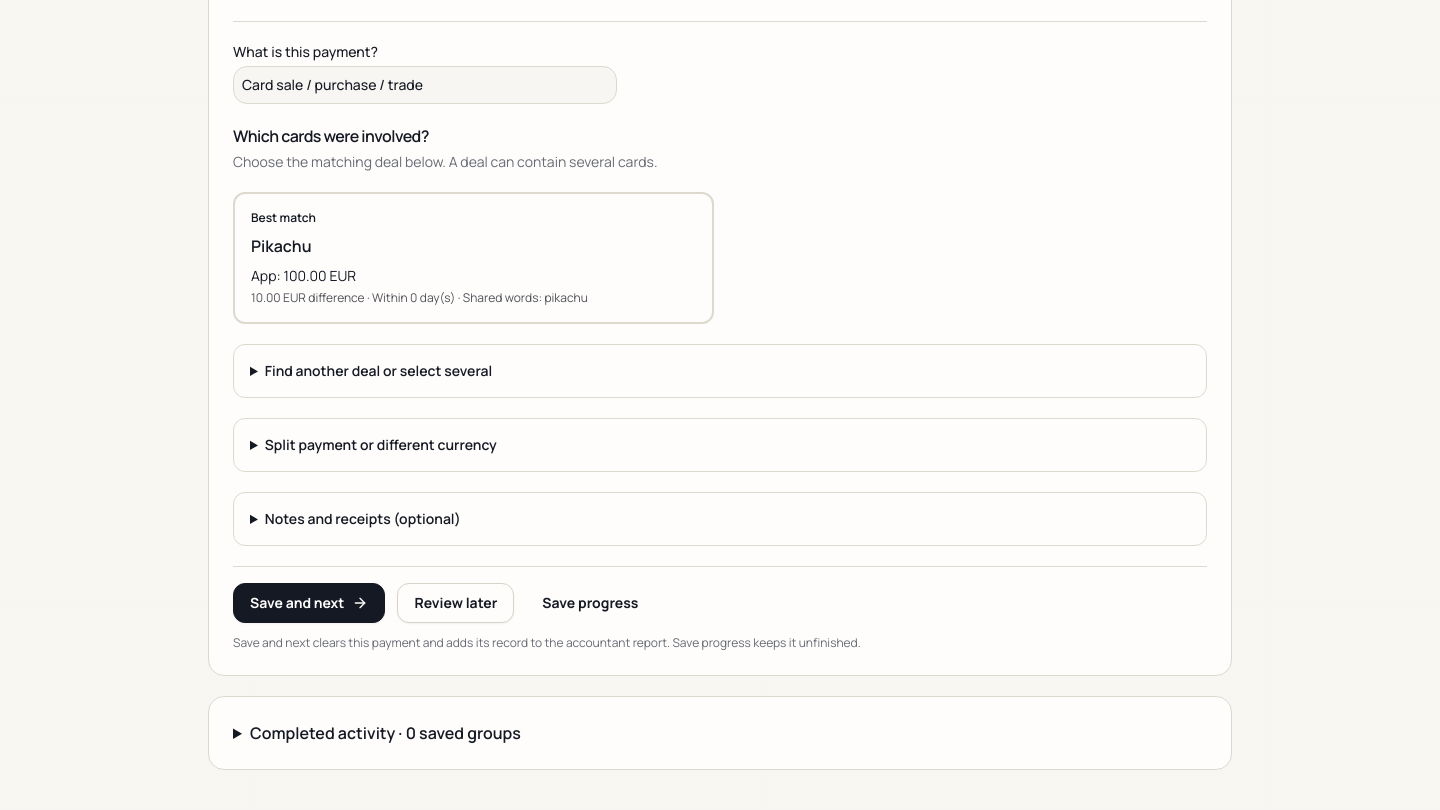
Test: guided payment review › shows validation beside Save and next instead of silently disabling it
The width and height of the screenshot is (1440, 810).
(page scrolled)
Click the button "Save and next" at coordinates (309, 603), box [233,583,385,623]
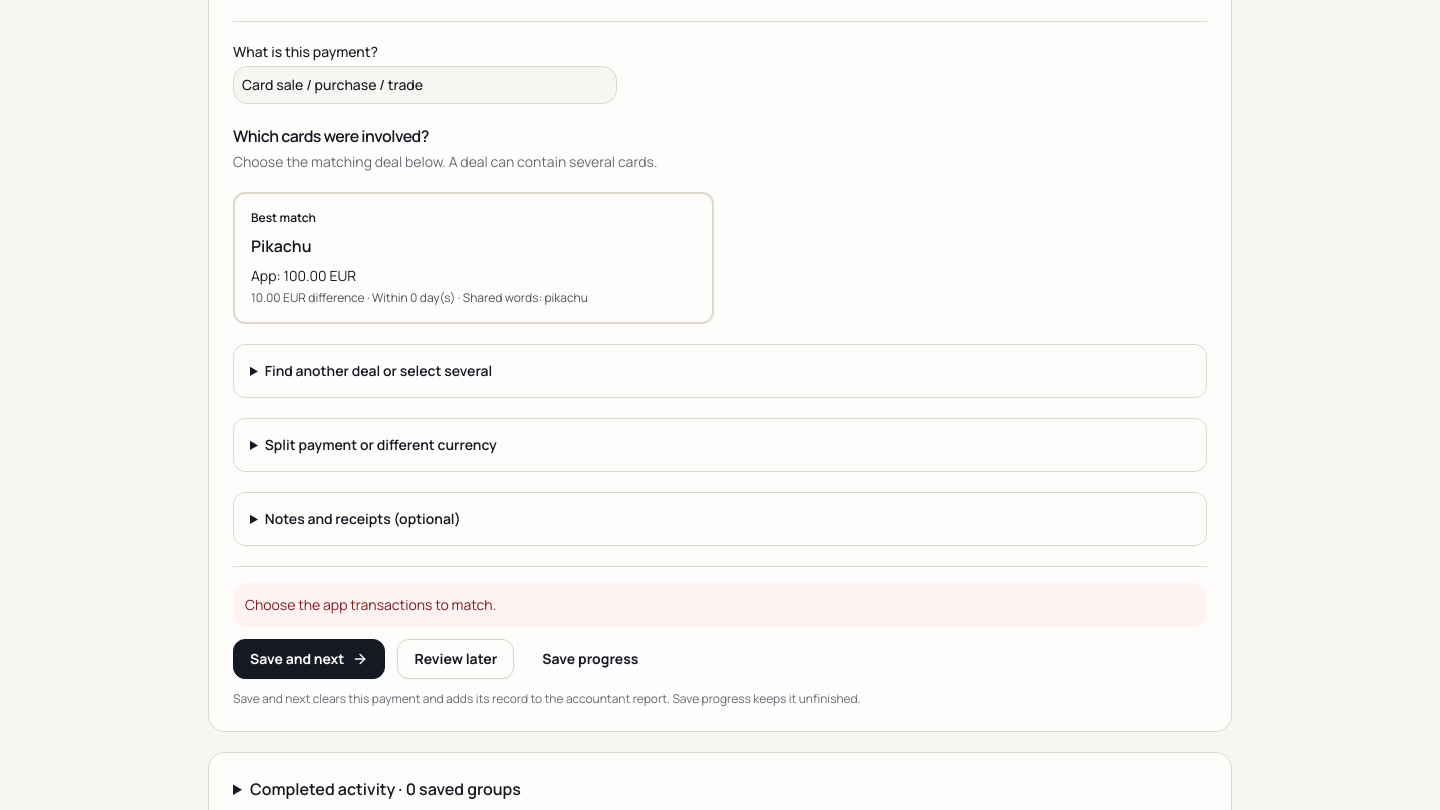
Check: the message "Choose the app transactions to match." is shown, box [233,583,1207,627]
